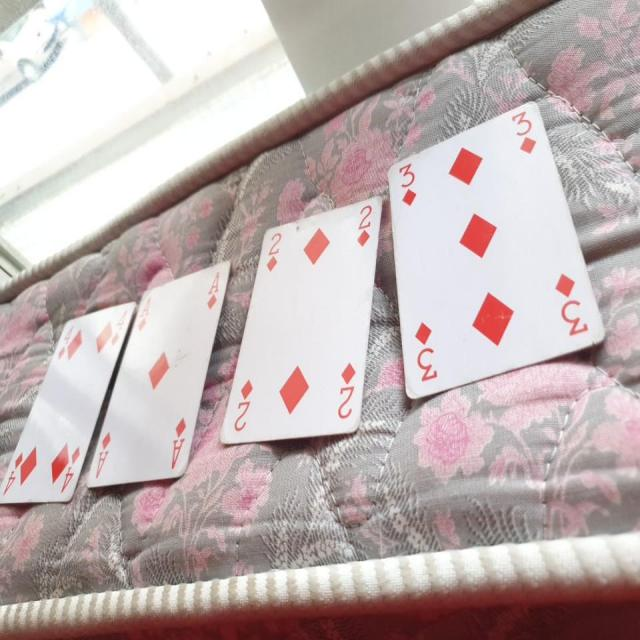2 Diamonds: (220, 194, 389, 444)
3 Diamonds: (385, 93, 609, 402)
4 Diamonds: (1, 294, 139, 507)
A Diamonds: (86, 261, 223, 490)
